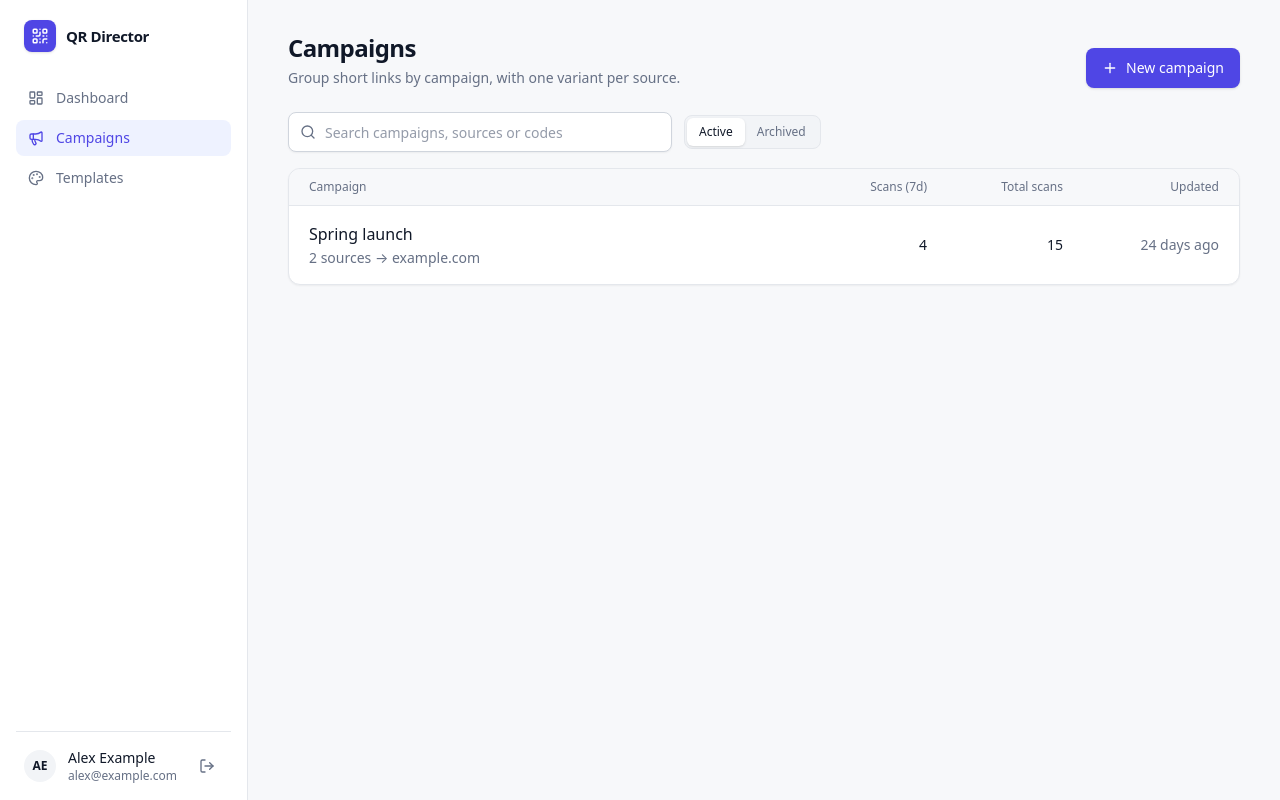
Test: campaigns › lists campaigns and searches
Expected: the text "Spring launch" is shown, [309,222,413,246]
Expected: the text "2 sources → example.com" is shown, [309,248,480,267]
In the field labelled "Search campaigns": [480, 132] box [288,112,672,152], type "nothing"
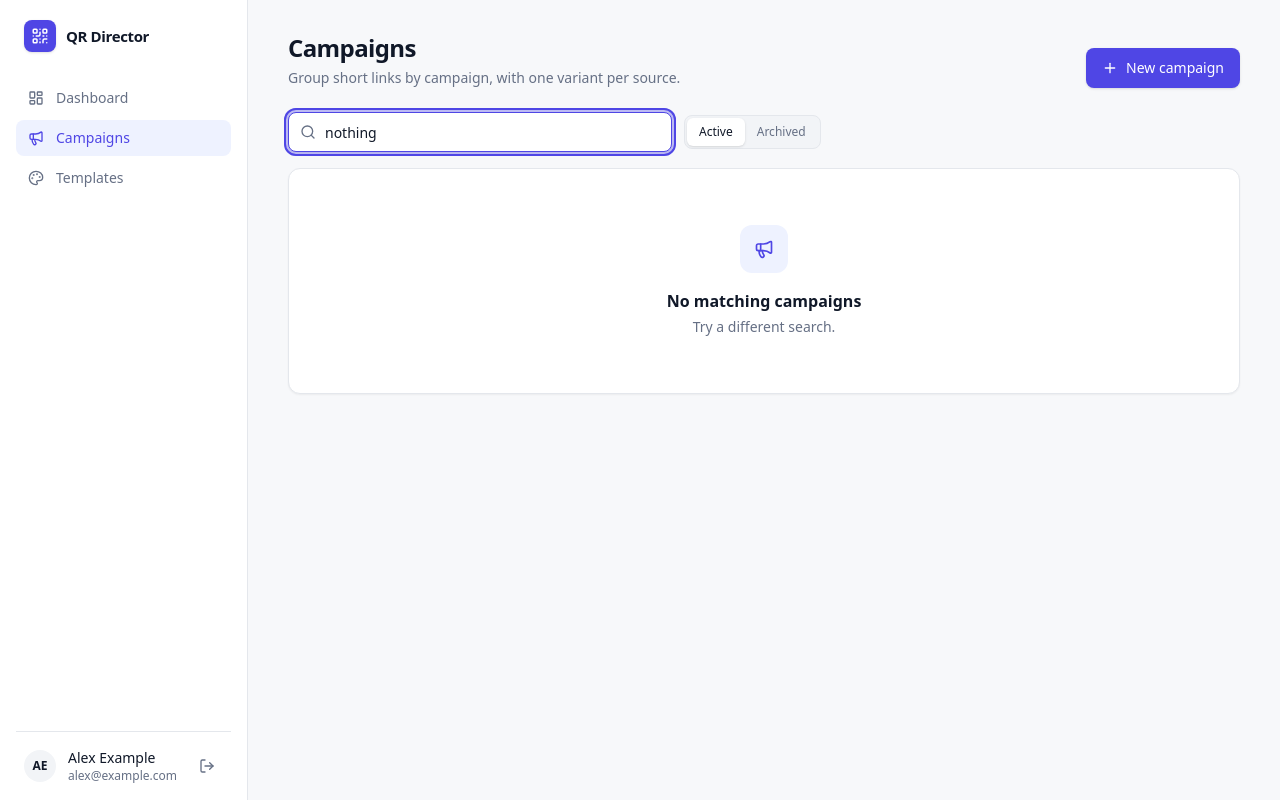
Expected: the heading "No matching campaigns" is shown, [667,289,861,313]
